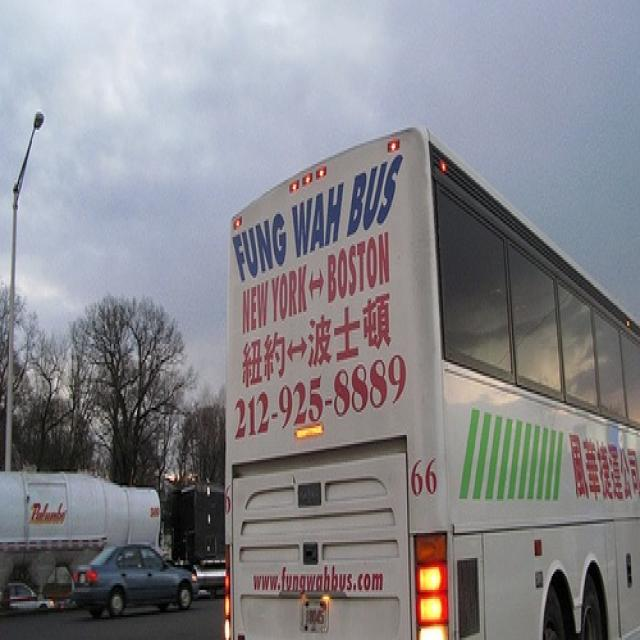bus: (224, 123, 639, 635)
car: (69, 538, 197, 617), (5, 583, 56, 613)
